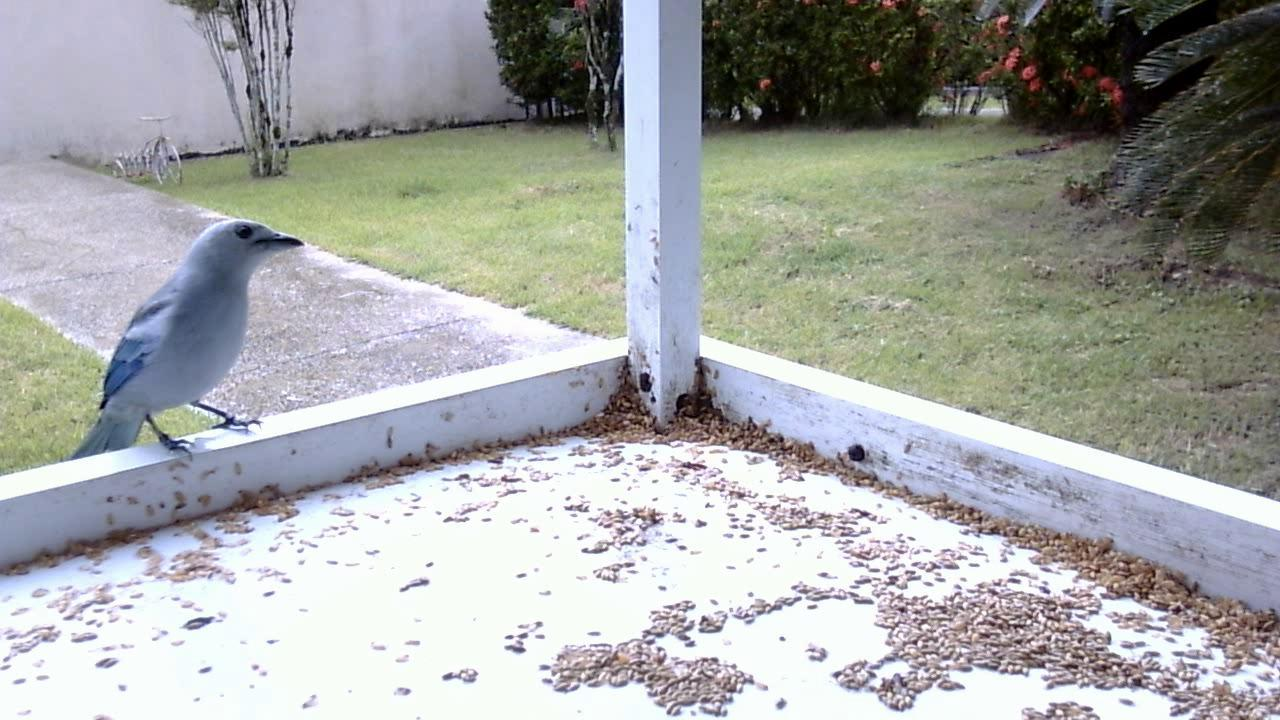sanhaco_da_amazonia: (59, 211, 307, 475)
